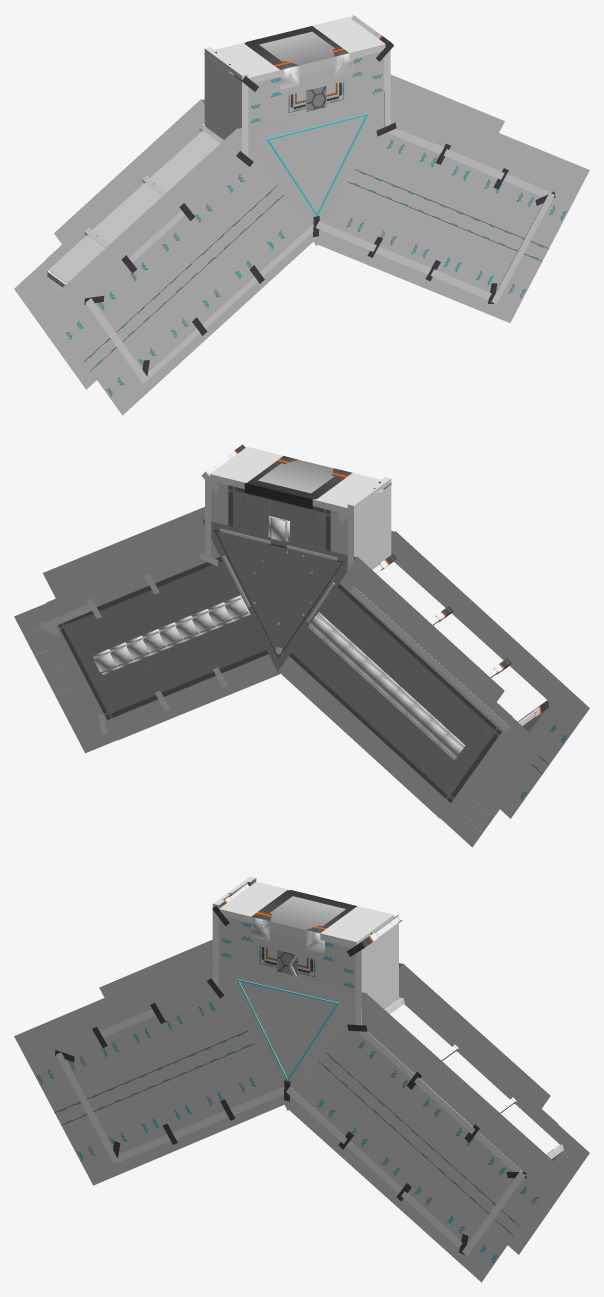
File: FINAL_ENV_Room1.fbx
3 renders of one model, top to bottom at view 1: azimuth 30°, elevation 25°; view 2: azimuth 150°, elevation 25°; view 3: azimuth 330°, elevation 25°, orthographic.
Visible parts, largest first — view 1: Plane.039, Plane.160, Cone.002, Plane.161, Plane.137, Final Door.002, TEXTURED_WT_ExposedPanel.012, Plane.136, b.016, Plane.138, TEXTURED_WT_ExposedPanel.010, b.015 (+7 smaller); view 2: Plane.138, Plane.137, Cylinder.007, Plane.160, Plane.136, Ver3, Ver3.001, TEXTURED_WT_ExposedPanel.012, Final Door.002, b.016, b.015, b.017 (+4 smaller); view 3: Plane.160, Plane.039, Cone.002, Plane.138, Plane.161, Final Door.002, TEXTURED_WT_ExposedPanel.009, a.021, TEXTURED_WT_ExposedPanel.010, a.019, Plane.137, a.020 (+6 smaller).
Boxes of the visible parts, x1,y1,x2,y2 form: Plane.039: (316, 90, 589, 322); Plane.160: (43, 128, 315, 415); Cone.002: (238, 90, 395, 246); Plane.161: (248, 52, 384, 125); Plane.137: (54, 99, 204, 251); Final Door.002: (245, 26, 353, 89); TEXTURED_WT_ExposedPanel.012: (204, 47, 248, 156); Plane.136: (14, 244, 96, 389); b.016: (92, 183, 184, 262); Plane.138: (390, 74, 504, 132); TEXTURED_WT_ExposedPanel.010: (312, 16, 385, 59); b.015: (149, 131, 219, 191); Plane.138: (53, 518, 280, 733); Plane.137: (278, 556, 504, 803); Cylinder.007: (201, 519, 355, 673); Plane.160: (391, 531, 589, 818); Plane.136: (424, 702, 544, 847); Ver3: (308, 612, 465, 760); Ver3.001: (93, 595, 250, 674); TEXTURED_WT_ExposedPanel.012: (347, 477, 391, 570); Final Door.002: (244, 456, 352, 508); b.016: (408, 613, 503, 695); b.015: (350, 562, 445, 643); b.017: (466, 666, 546, 731); Plane.160: (14, 954, 286, 1185); Plane.039: (287, 993, 561, 1282); Cone.002: (209, 955, 366, 1110); Plane.138: (399, 963, 550, 1120); Plane.161: (219, 917, 355, 990); Final Door.002: (251, 890, 356, 954); TEXTURED_WT_ExposedPanel.009: (355, 922, 398, 1025); a.021: (414, 1051, 509, 1133); TEXTURED_WT_ExposedPanel.010: (320, 906, 393, 947); a.019: (358, 1004, 451, 1078); Plane.137: (99, 939, 212, 997); a.020: (474, 1104, 559, 1171).
Size of the model in its own units: 12817 by 7013 by 1596.
Materials: 100 (91 with a texture image).
